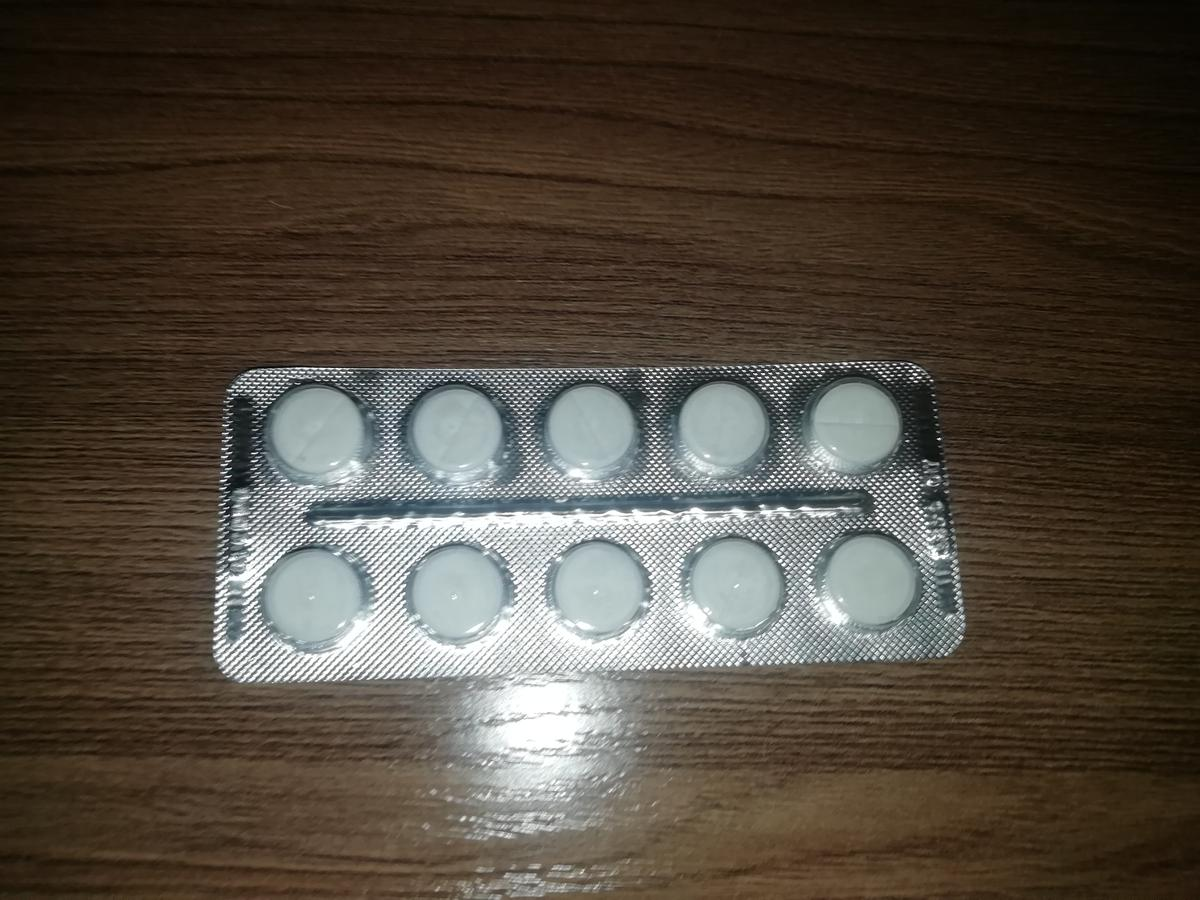tablet: (271, 383, 382, 492), (401, 377, 512, 486), (531, 377, 642, 486), (665, 374, 776, 483), (795, 371, 906, 480), (811, 524, 922, 633), (678, 527, 789, 636), (547, 529, 658, 638), (404, 537, 515, 646), (256, 542, 367, 651)
